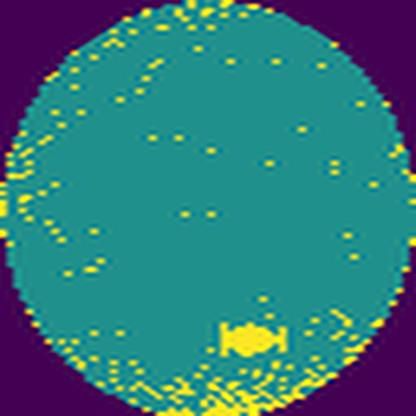Loc: (217, 318, 290, 360)
